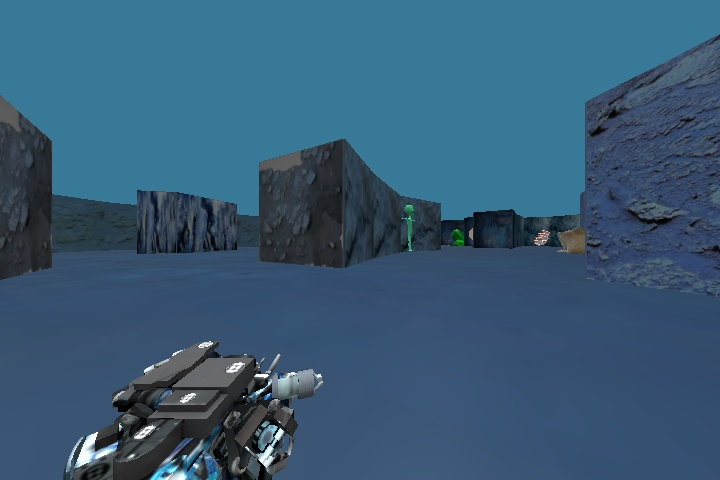formation: (554, 226, 589, 256)
green_alien: (396, 201, 424, 252)
green_crystal: (444, 228, 467, 251)
mushrooms: (532, 225, 549, 247)
